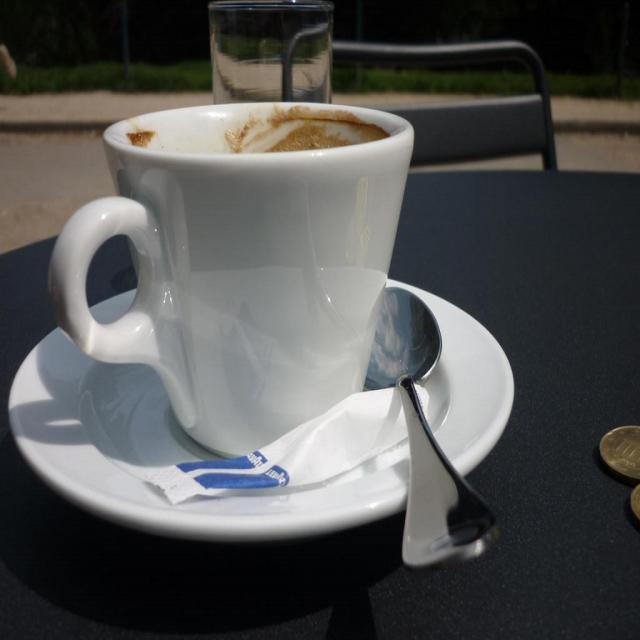Coffee: (126, 109, 384, 152)
